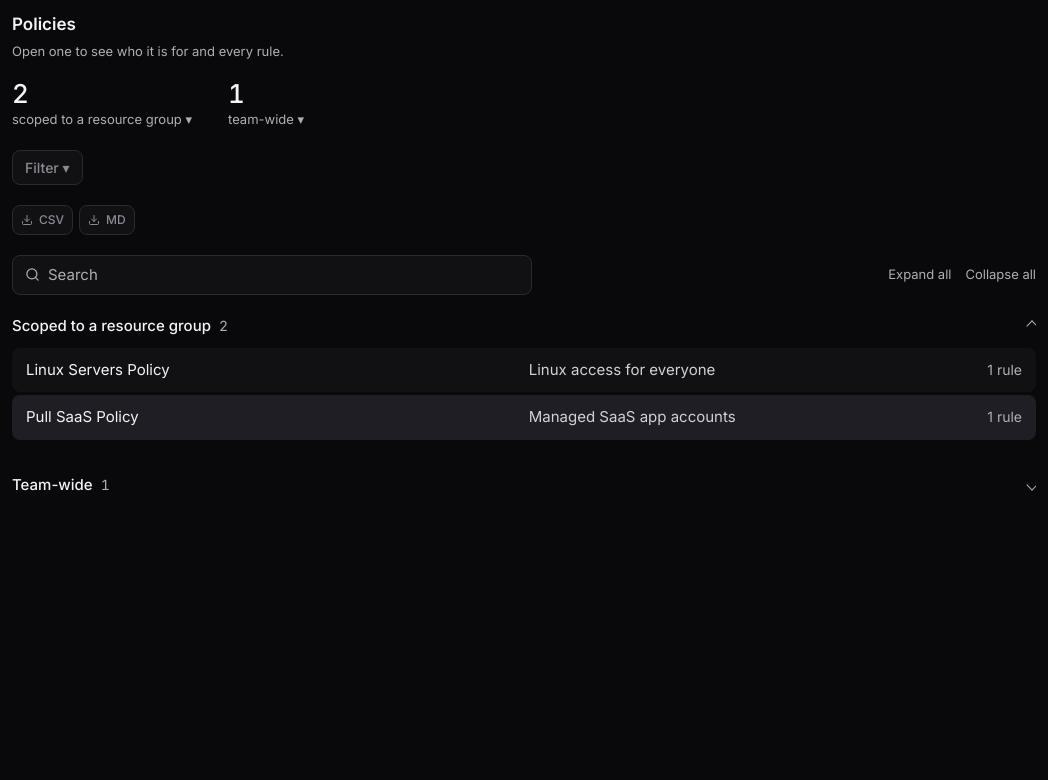
Test case: PoliciesTab › the team-wide, inactive policy is reachable with the Inactive filter
Click the button "Filter ▾" at (47, 167), box [12,150,82,184]
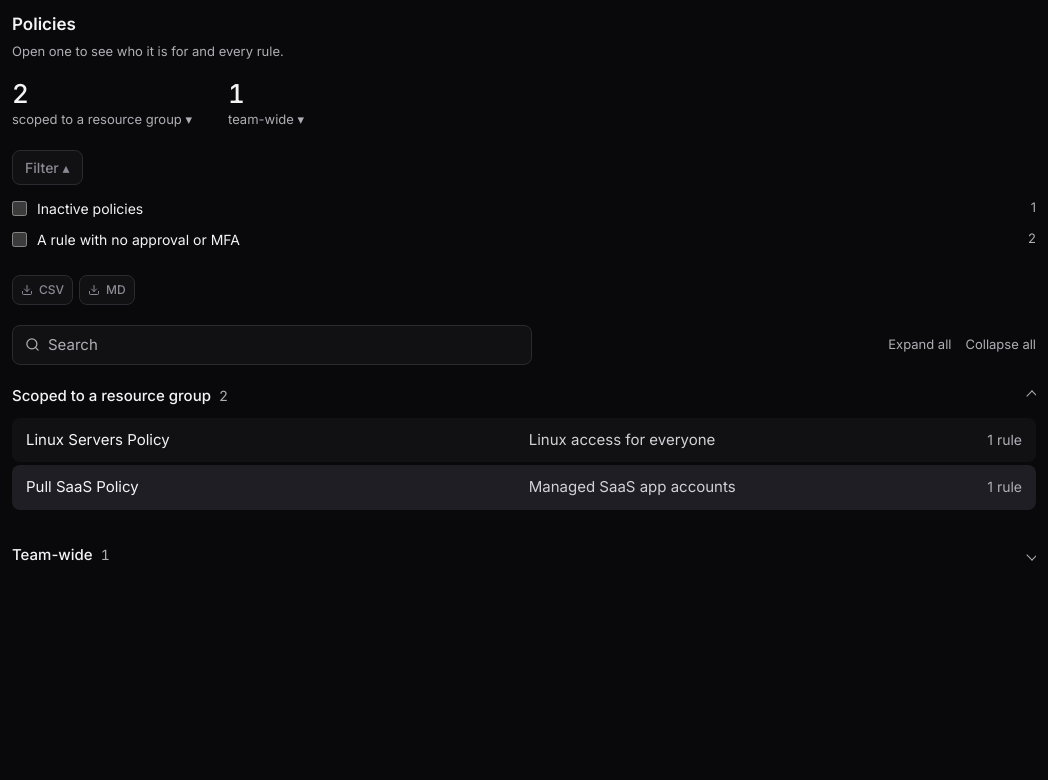
Click the checkbox labelled "Inactive policies 1" at (20, 208), box [12,200,27,216]
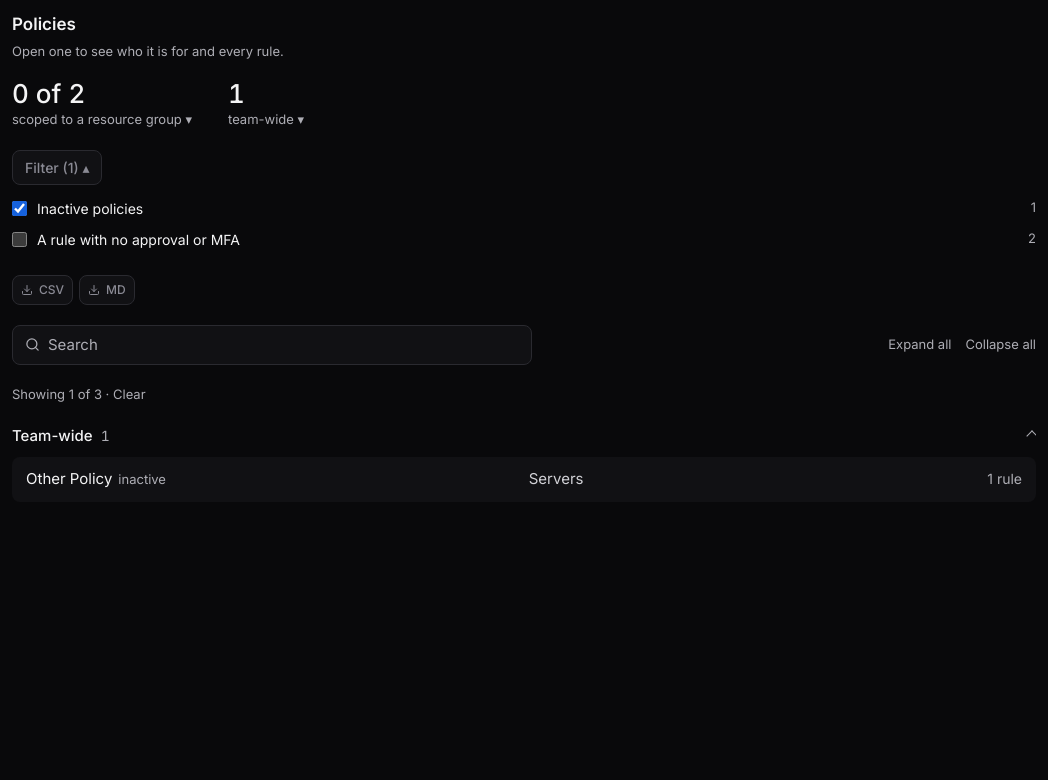
Result: the button "Linux Servers Policy" is gone
Result: the button "Other Policy" shows "inactive" at [12,457,1036,502]
